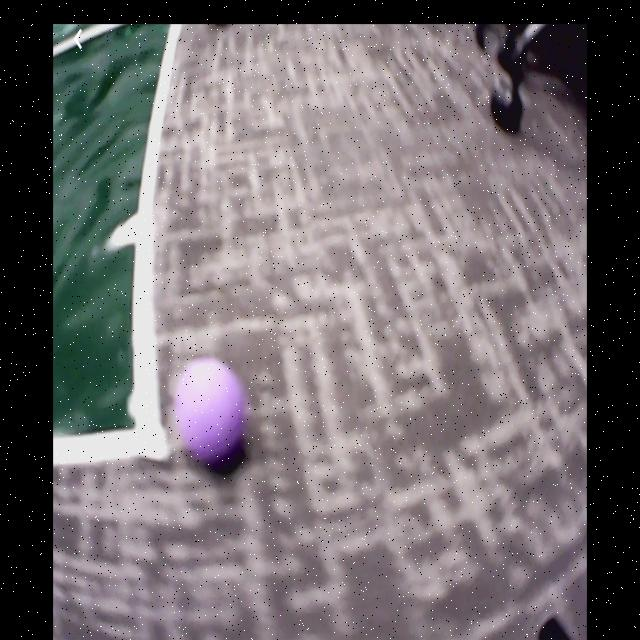ball: (178, 359, 246, 464)
